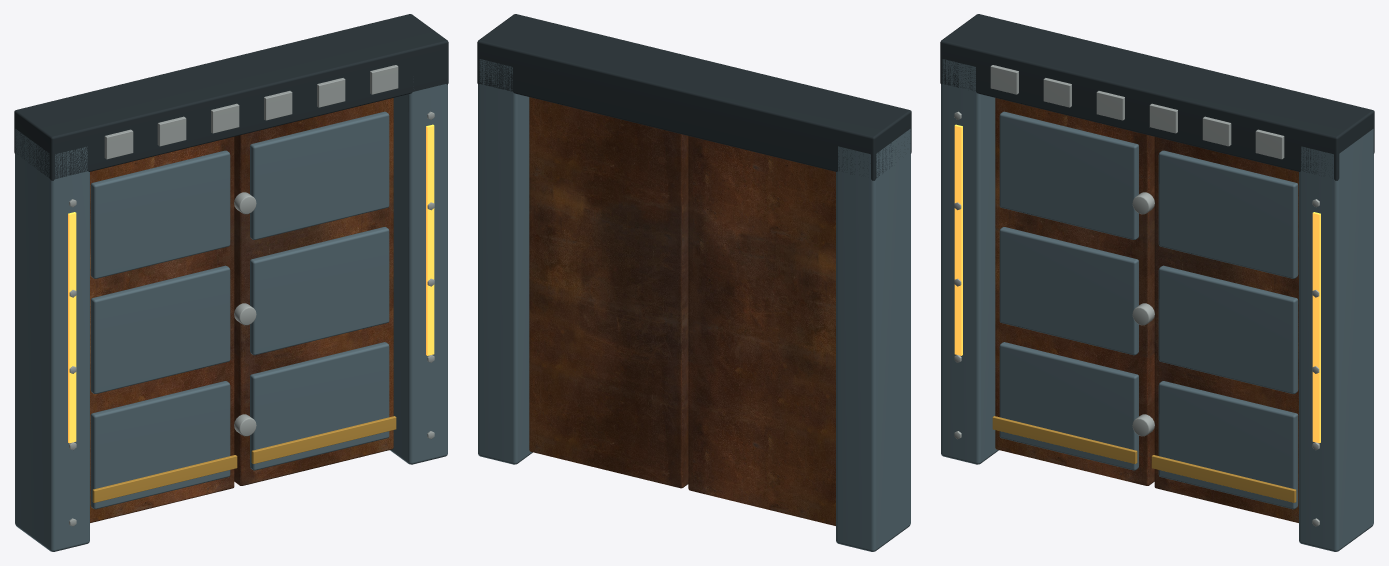
The model's file is terrain-door.glb.
The picture shows the model from 3 angles, left to right: view 1: azimuth 30°, elevation 25°; view 2: azimuth 150°, elevation 25°; view 3: azimuth 330°, elevation 25°; orthographic projection.
Visible parts, largest first — view 1: terrain-door; view 2: terrain-door; view 3: terrain-door.
Boxes of the visible parts, <box> form: terrain-door: <box>14,14,448,551</box>; terrain-door: <box>477,14,911,551</box>; terrain-door: <box>940,14,1374,551</box>.
Bounding box in the file's own units: 3 × 3 × 0.5275.
6 materials, 1 textured.
